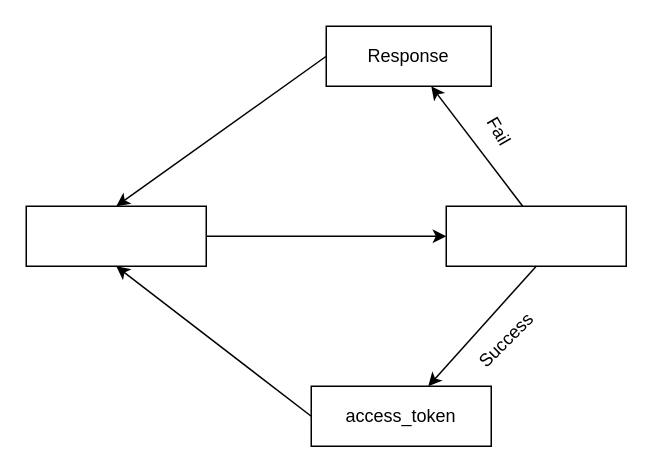
Some shapes in this 653 by 473 pixel diagram are drawn without their labels. The box of each missing label's shape, as (x1, y1, x2, y2) in pixels:
Server: (445, 205, 626, 266)
User/Admin: (25, 205, 206, 266)
